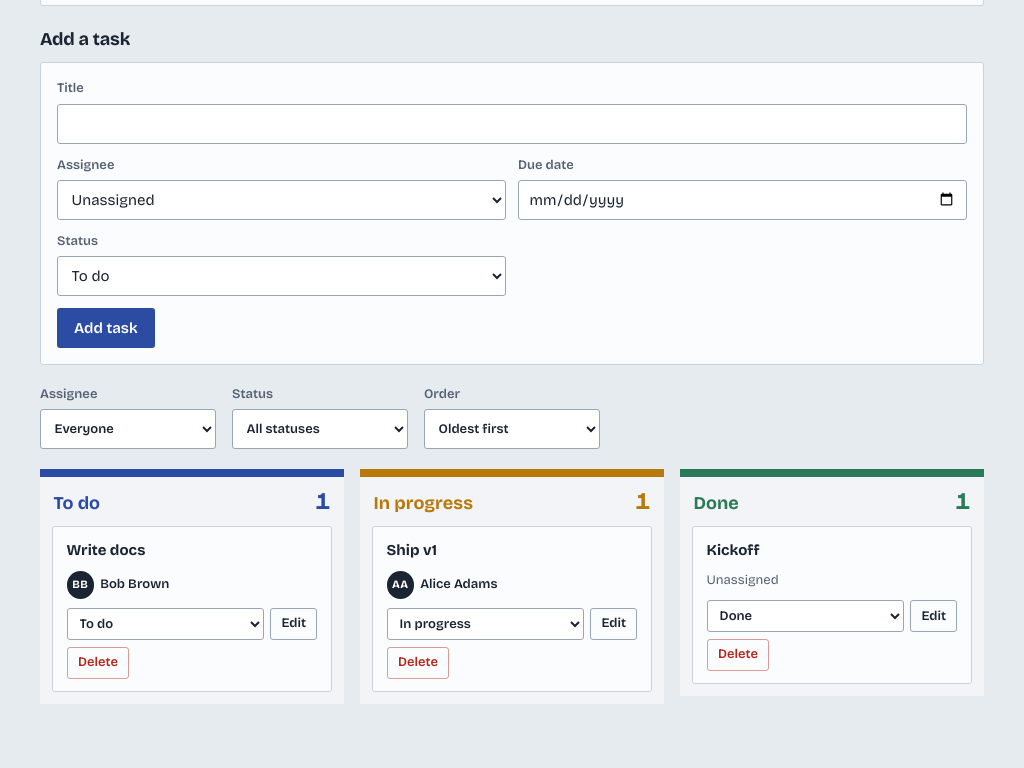
Test: Board page › rolls the card back and shows an error toast when the server rejects the change
(page scrolled)
Select "Done" in the dropdown named "Status of Write docs" below "Write docs" at [165, 624], box [67,608,264,640]
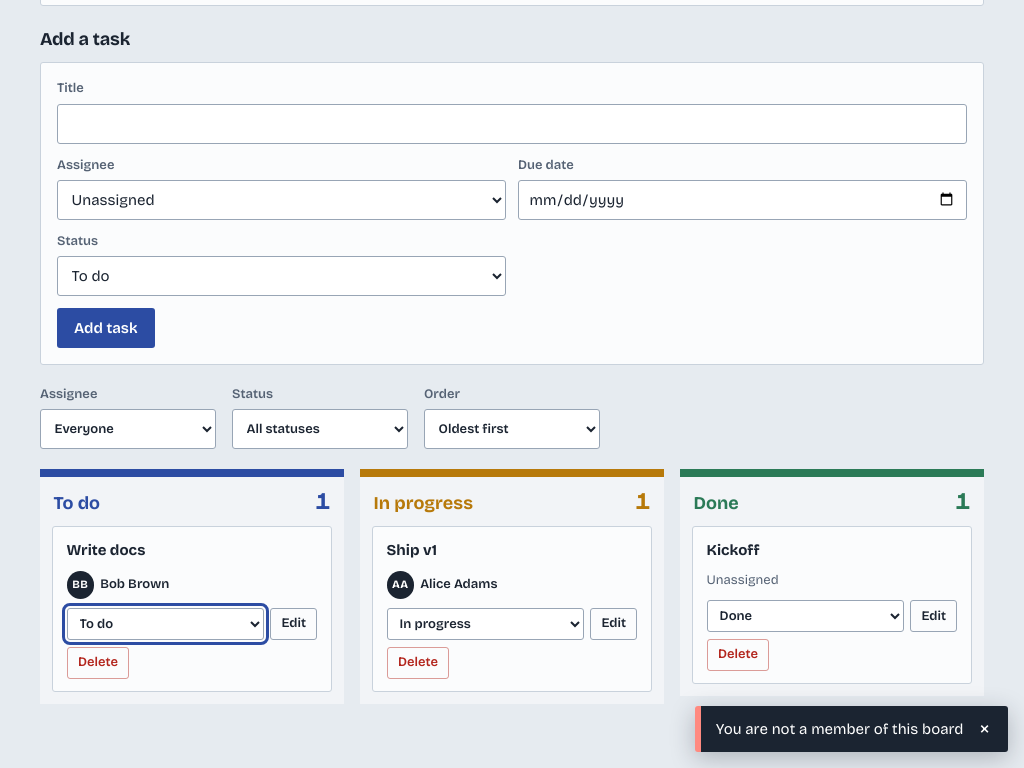
Expected: the heading "Write docs" is shown, [67,541,145,559]
Now the message shows "You are not a member of this board", box [716,720,964,738]
